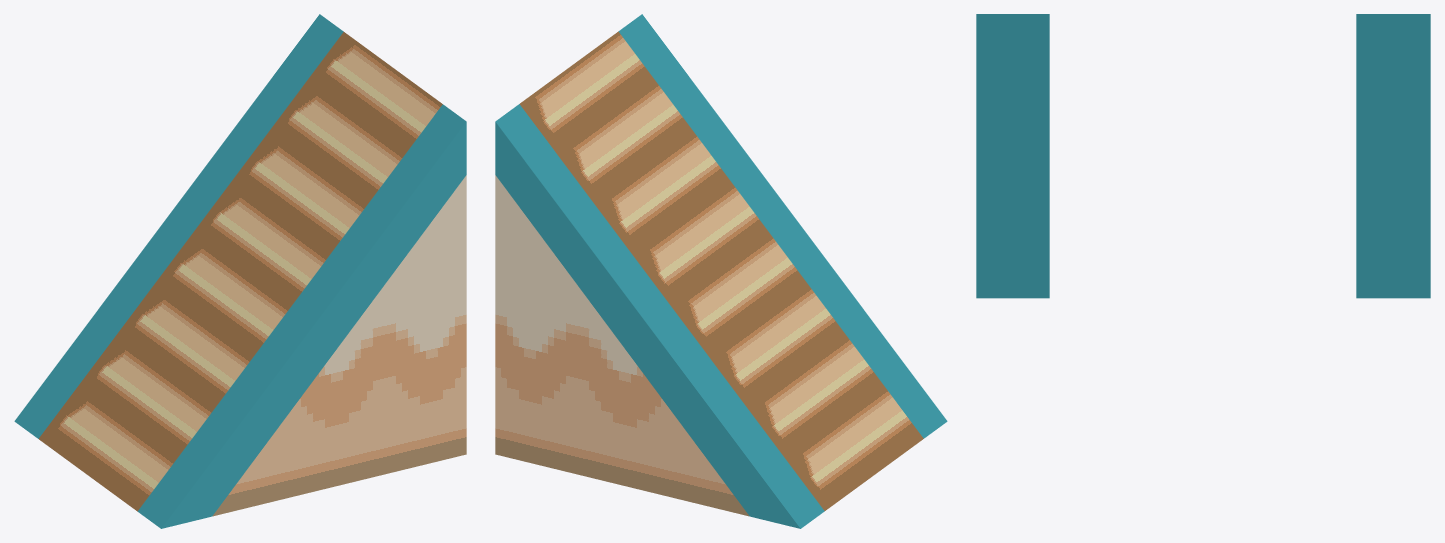
The picture shows the model from 3 angles, left to right: view 1: azimuth 30°, elevation 25°; view 2: azimuth 150°, elevation 25°; view 3: azimuth 270°, elevation 25°; orthographic projection. The views are drawn at different scales.
Bounding box in the file's own units: 3 × 3.12 × 2.5.
3 materials, 3 textured.
